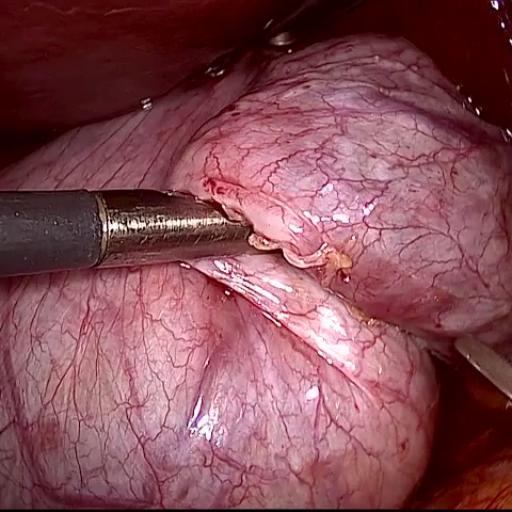Grasper: (60, 122, 305, 328), (418, 283, 512, 434)
